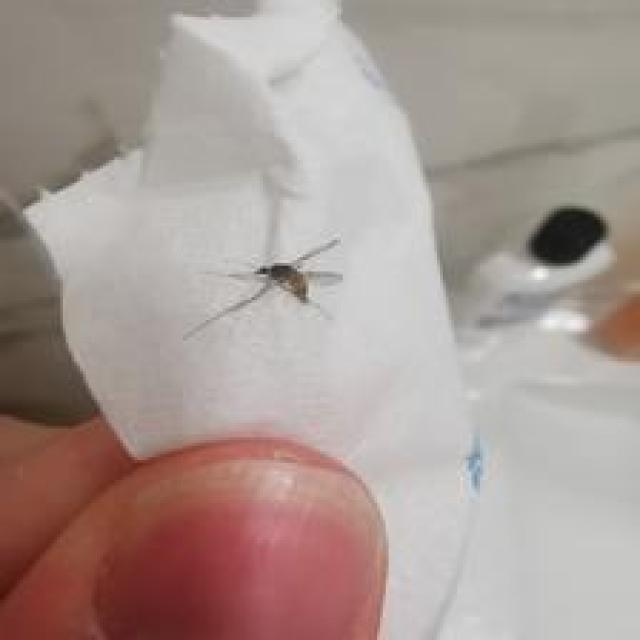Culex: (182, 237, 344, 340)
